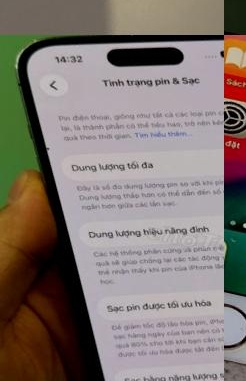screen_defect: (41, 143, 53, 156)
